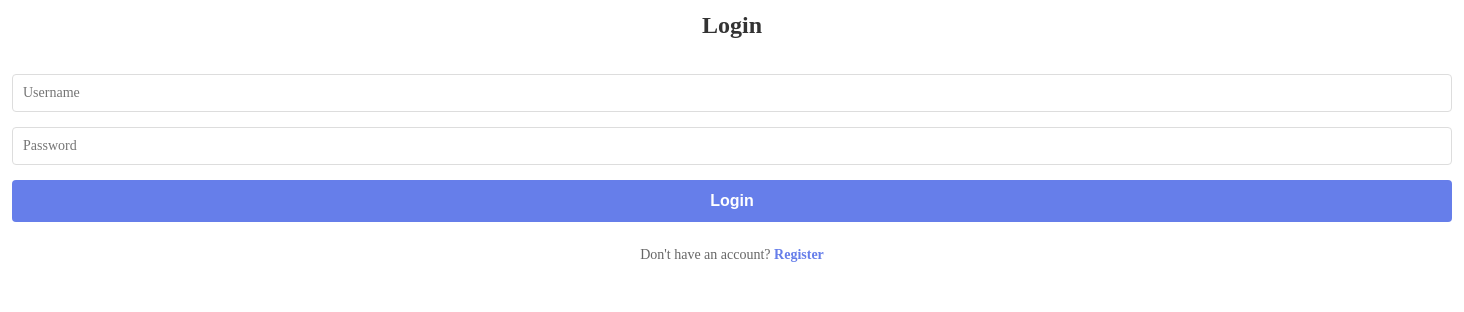
it: Login Component Integration Tests (Mocking Fetch) › Đăng nhập thành công - Hiển thị thông báo success và gọi API
This screenshot has width=1464, height=312.
Type "testuser" into the field with test id "username-input" at (732, 93), box [12, 74, 1452, 112]
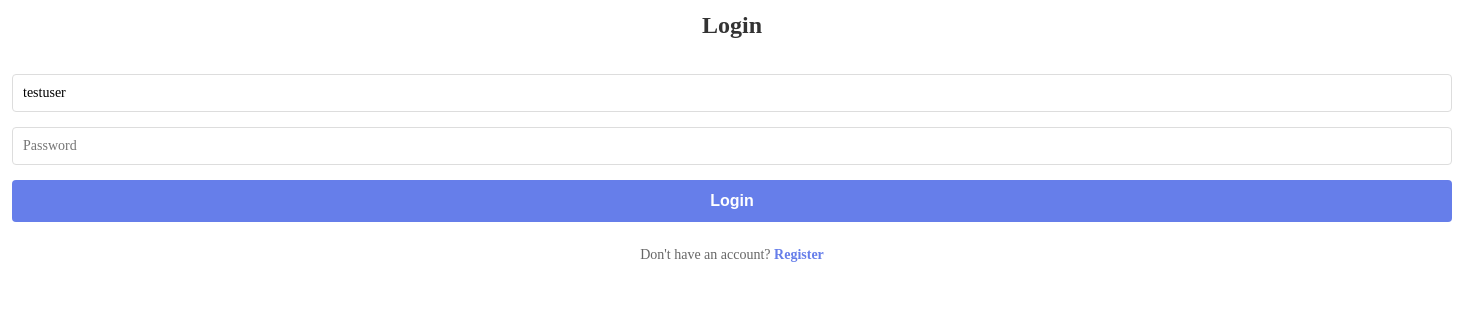
Type "Test123" into the password field with test id "password-input" at (732, 146), box [12, 127, 1452, 165]
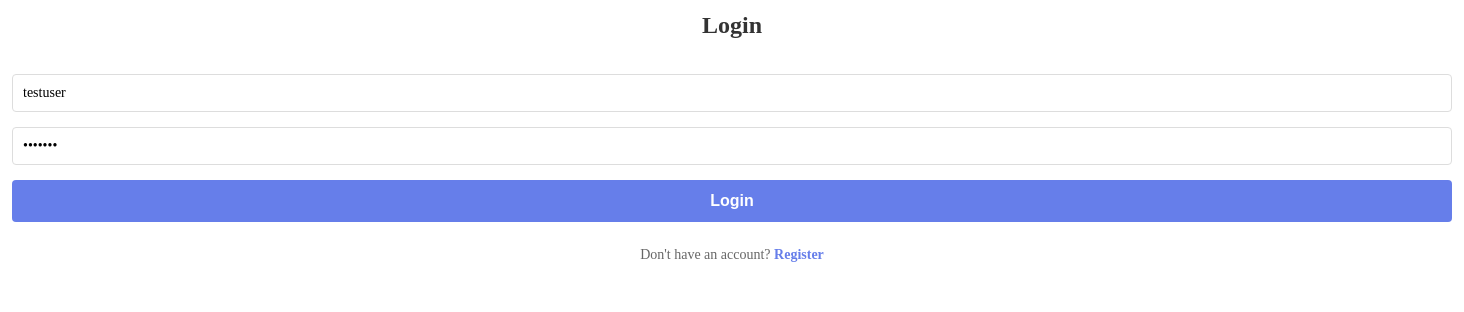
Click the button with test id "login-button" at (732, 201), box [12, 180, 1452, 222]
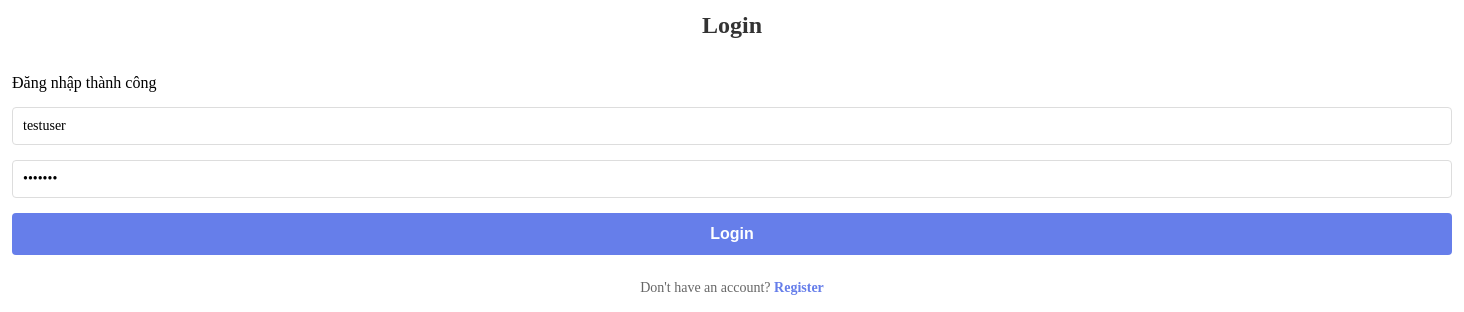
Expected: the text with test id "login-message" reads "Đăng nhập thành công", [12, 74, 156, 91]
